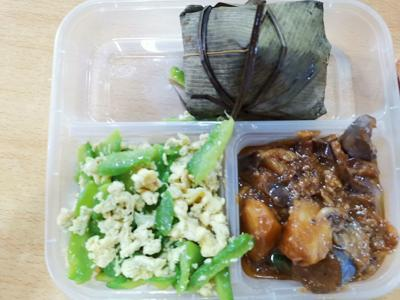sqz: (240, 131, 394, 289)
